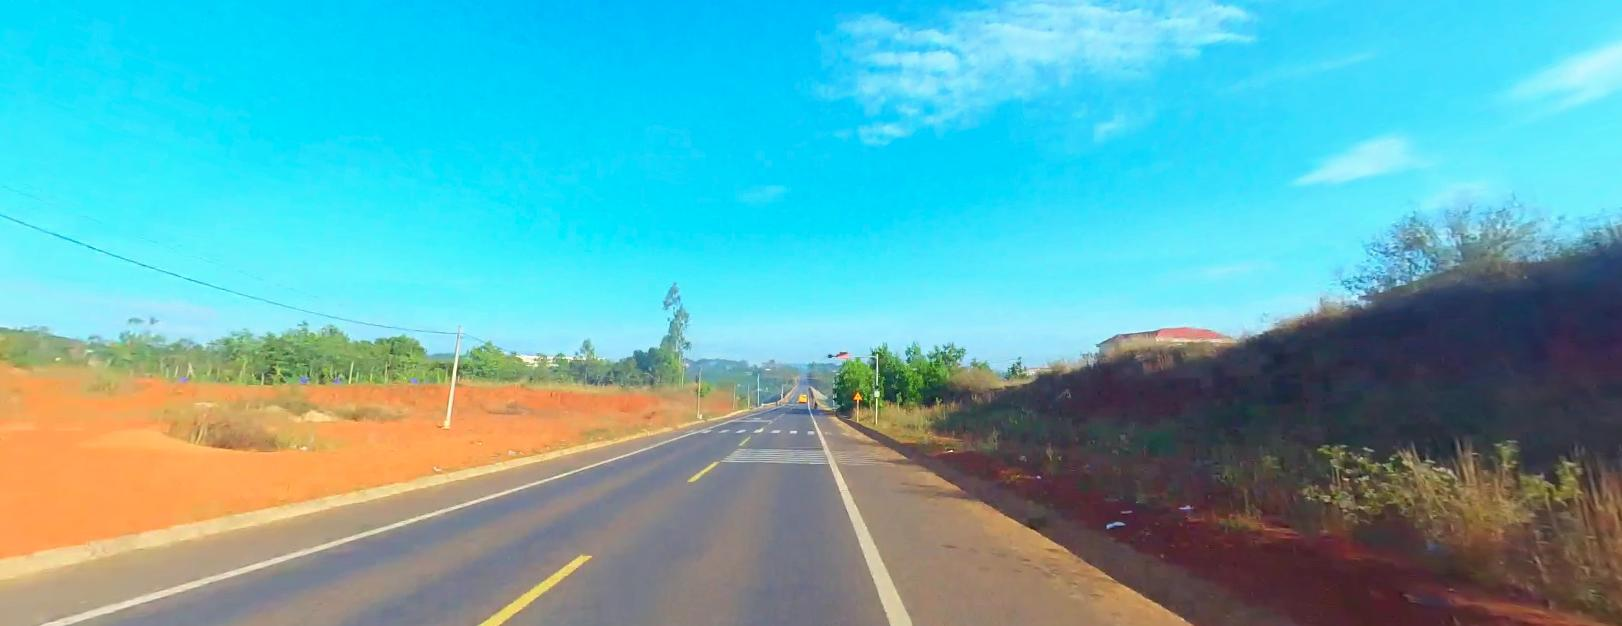Nguy hiem: (852, 389, 862, 398)
